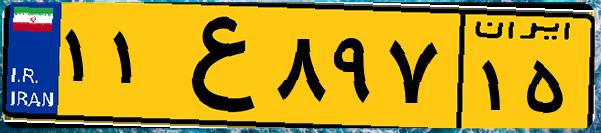1: (57, 26, 110, 100), (475, 38, 525, 113), (110, 28, 158, 98)
5: (525, 38, 570, 115)
7: (385, 28, 445, 110)
8: (270, 28, 330, 110)
9: (330, 28, 385, 110)
ع: (158, 12, 270, 120)
